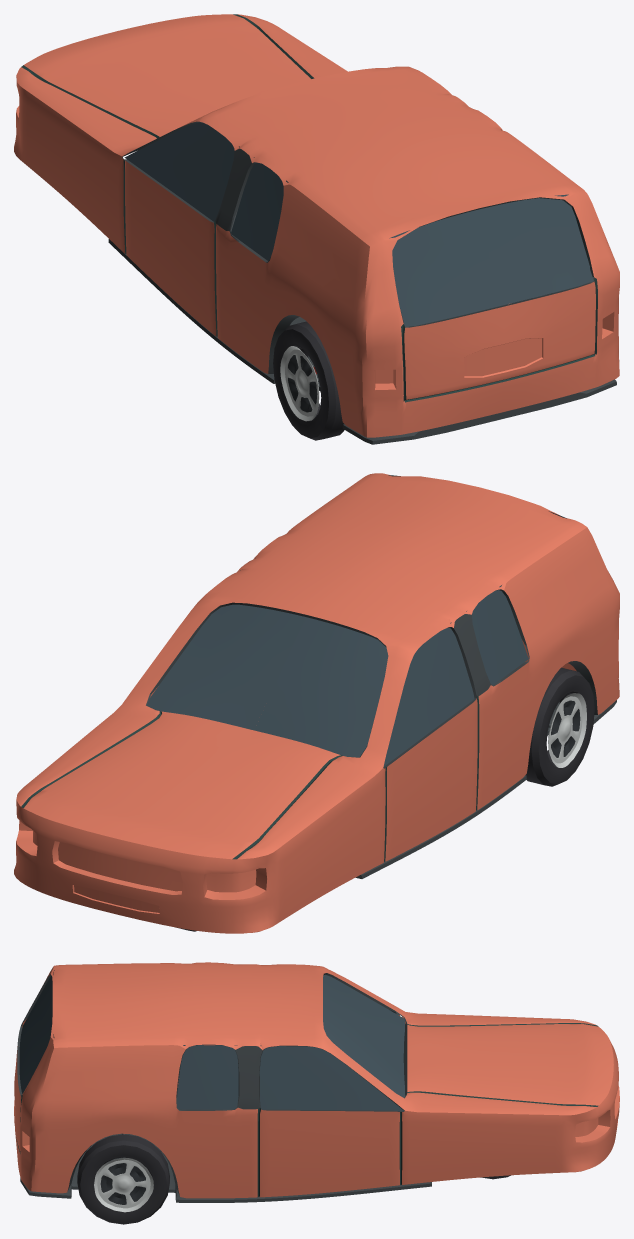
File: forge_three_wheeler_lod2.fbx
3 views of the same model, one above another, from view 1: azimuth 30°, elevation 25°; view 2: azimuth 150°, elevation 25°; view 3: azimuth 270°, elevation 25° (orthographic). The views are drawn at different scales.
Parts seen in each view (by area): view 1: Body, Wheel_RL_Mesh; view 2: Body, Wheel_RL_Mesh; view 3: Body, Wheel_RR_Mesh.
Boxes of the visible parts, x1=… form: Body: x1=14, y1=14, x2=619, y2=444; Wheel_RL_Mesh: x1=273, y1=321, x2=344, y2=440; Body: x1=14, y1=473, x2=619, y2=933; Wheel_RL_Mesh: x1=525, y1=667, x2=594, y2=786; Body: x1=14, y1=962, x2=619, y2=1202; Wheel_RR_Mesh: x1=77, y1=1134, x2=169, y2=1224.
Size of the model in its own units: 132 by 110 by 332.
